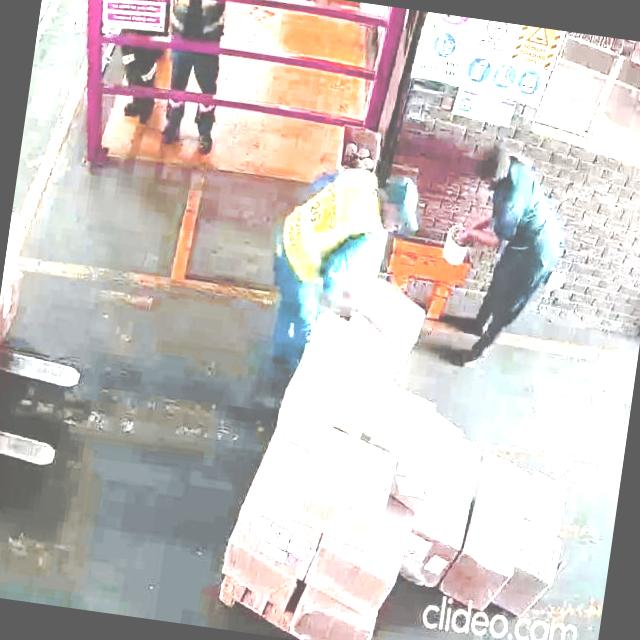Box: (295, 422, 405, 552), (454, 456, 526, 605), (276, 336, 378, 440), (374, 386, 464, 487), (306, 539, 394, 616), (231, 496, 320, 572), (218, 538, 300, 607), (504, 520, 559, 622), (522, 464, 576, 534), (293, 595, 371, 640)
